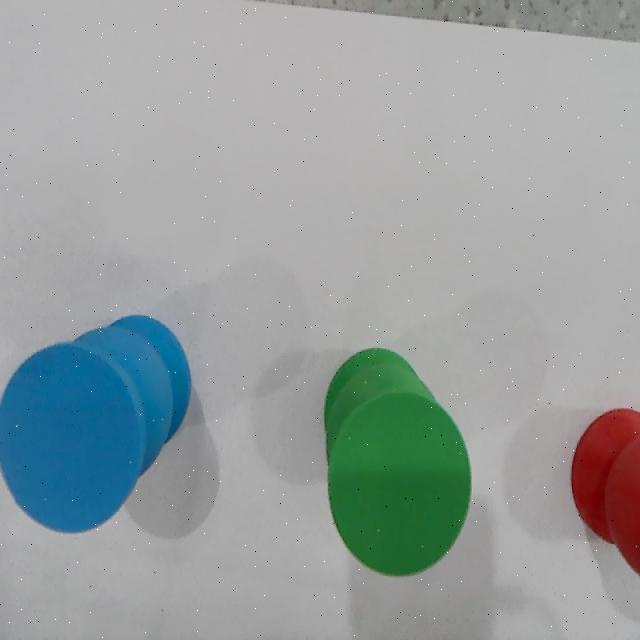g: (329, 390, 473, 578)
